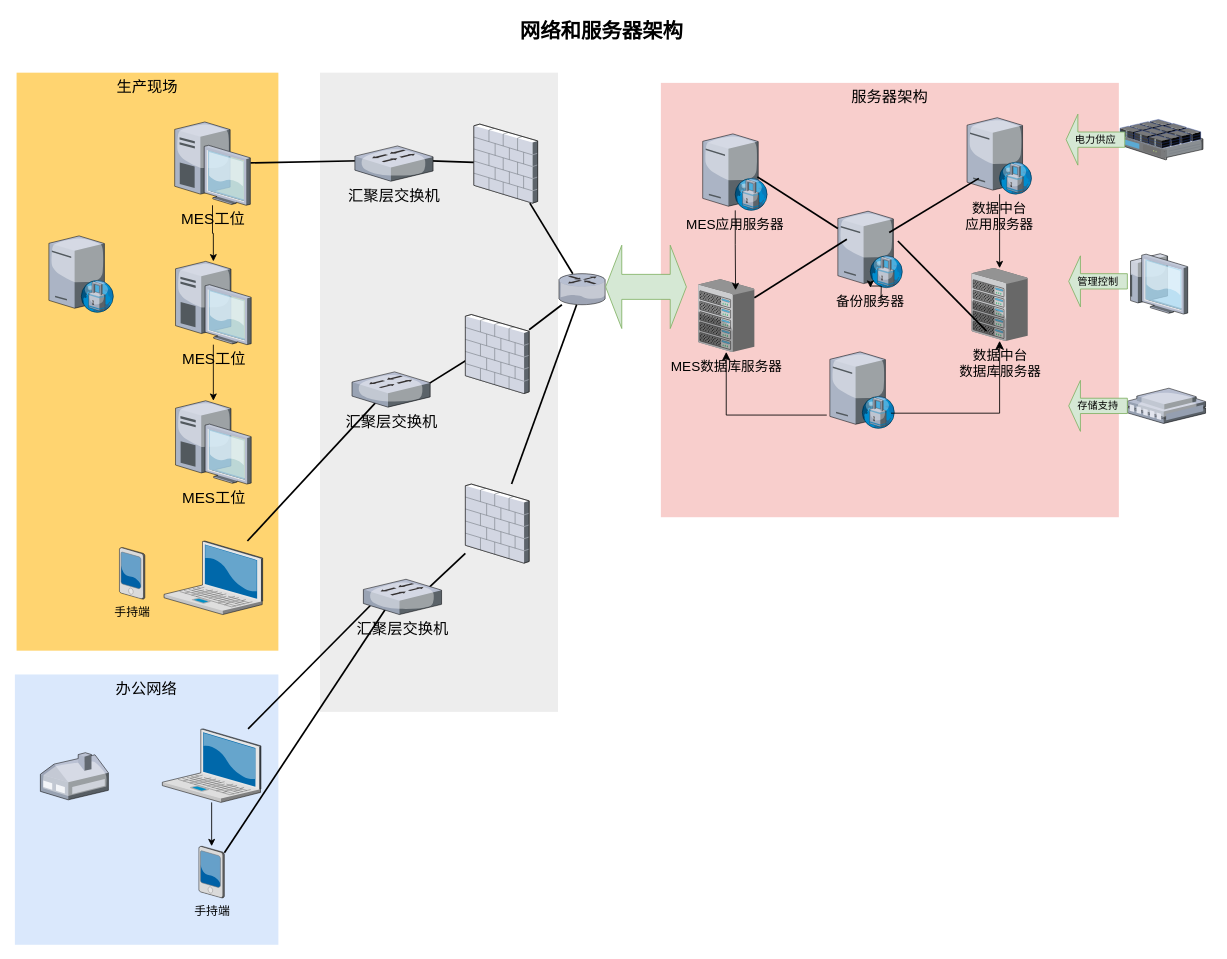
Some shapes in this 1227 by 959 pixel diagram are drawn without their labels. Each missing label, with the centre of its shape:
Client: the point at 213,577
KVM一体显示切换: the point at 1157,283
办公电脑: the point at 211,765
存储: the point at 1166,405
数据采集服务器: the point at 861,389
服务器UPS: the point at 1160,139
核心 层交换机: the point at 581,288
现场数据 采集服务器: the point at 80,273
网络交换: the point at 645,286
